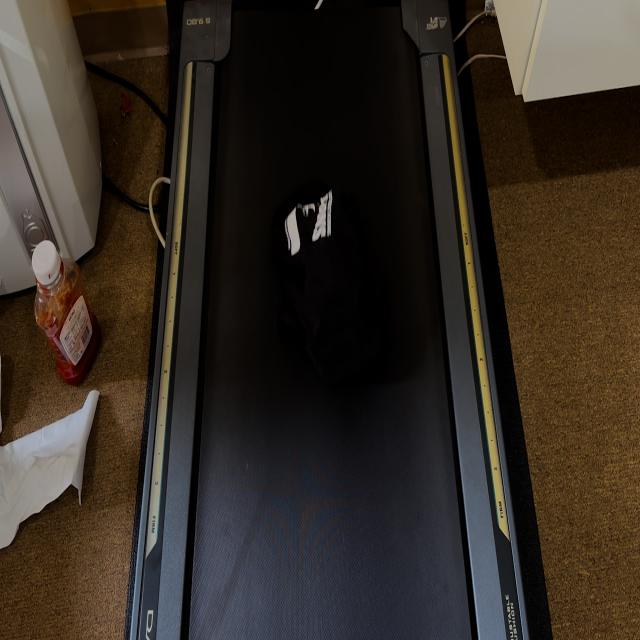Trash: (282, 175, 350, 275)
